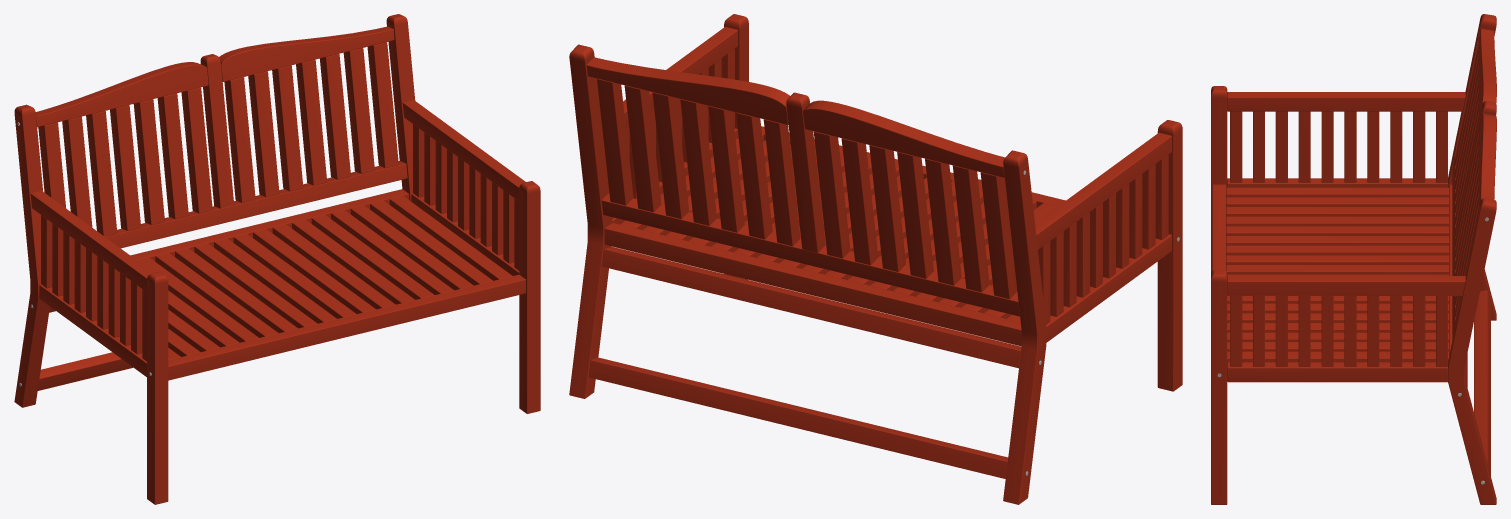
File: paronholmen-banco-con-respaldo-de-exterior-rojo-90503799.glb
3 renders of one model, left to right at view 1: azimuth 30°, elevation 25°; view 2: azimuth 150°, elevation 25°; view 3: azimuth 270°, elevation 25°, orthographic. The views are drawn at different scales.
Parts seen in each view (by area): view 1: Mesh_0; view 2: Mesh_0; view 3: Mesh_0.
Boxes of the visible parts, x1=… form: Mesh_0: x1=14, y1=14, x2=540, y2=504; Mesh_0: x1=569, y1=14, x2=1182, y2=504; Mesh_0: x1=1211, y1=14, x2=1496, y2=504.
Size of the model in its own units: 1.11 by 0.83 by 0.7.
Materials: 1 (1 with a texture image).
